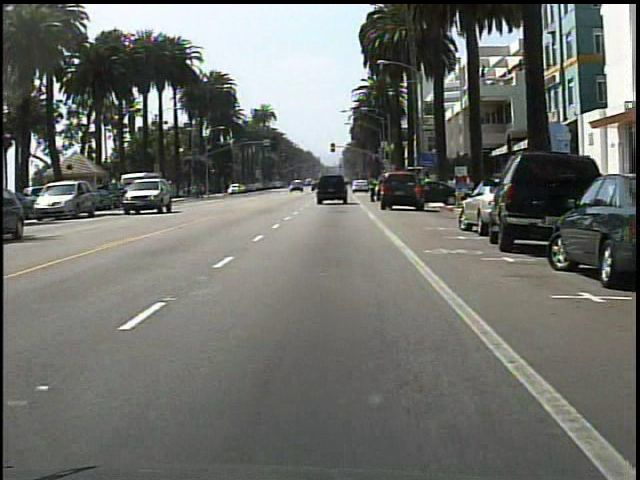person: (366, 174, 382, 205)
